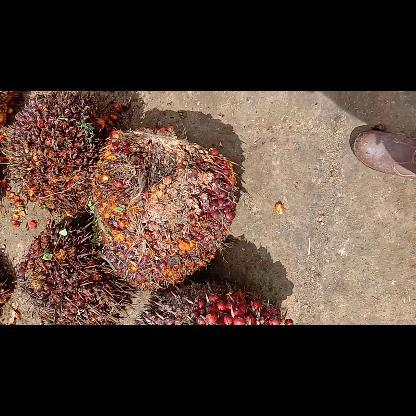TBS masak: (88, 126, 238, 288), (0, 91, 104, 217), (18, 222, 128, 324), (134, 280, 292, 324)
